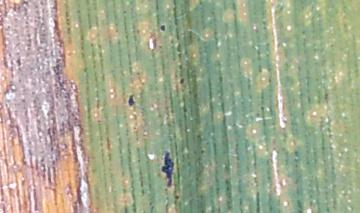tarspot: (160, 151, 176, 188), (126, 93, 137, 108), (322, 90, 331, 105), (158, 22, 168, 34), (15, 54, 23, 67), (178, 76, 186, 84), (173, 192, 180, 201)
